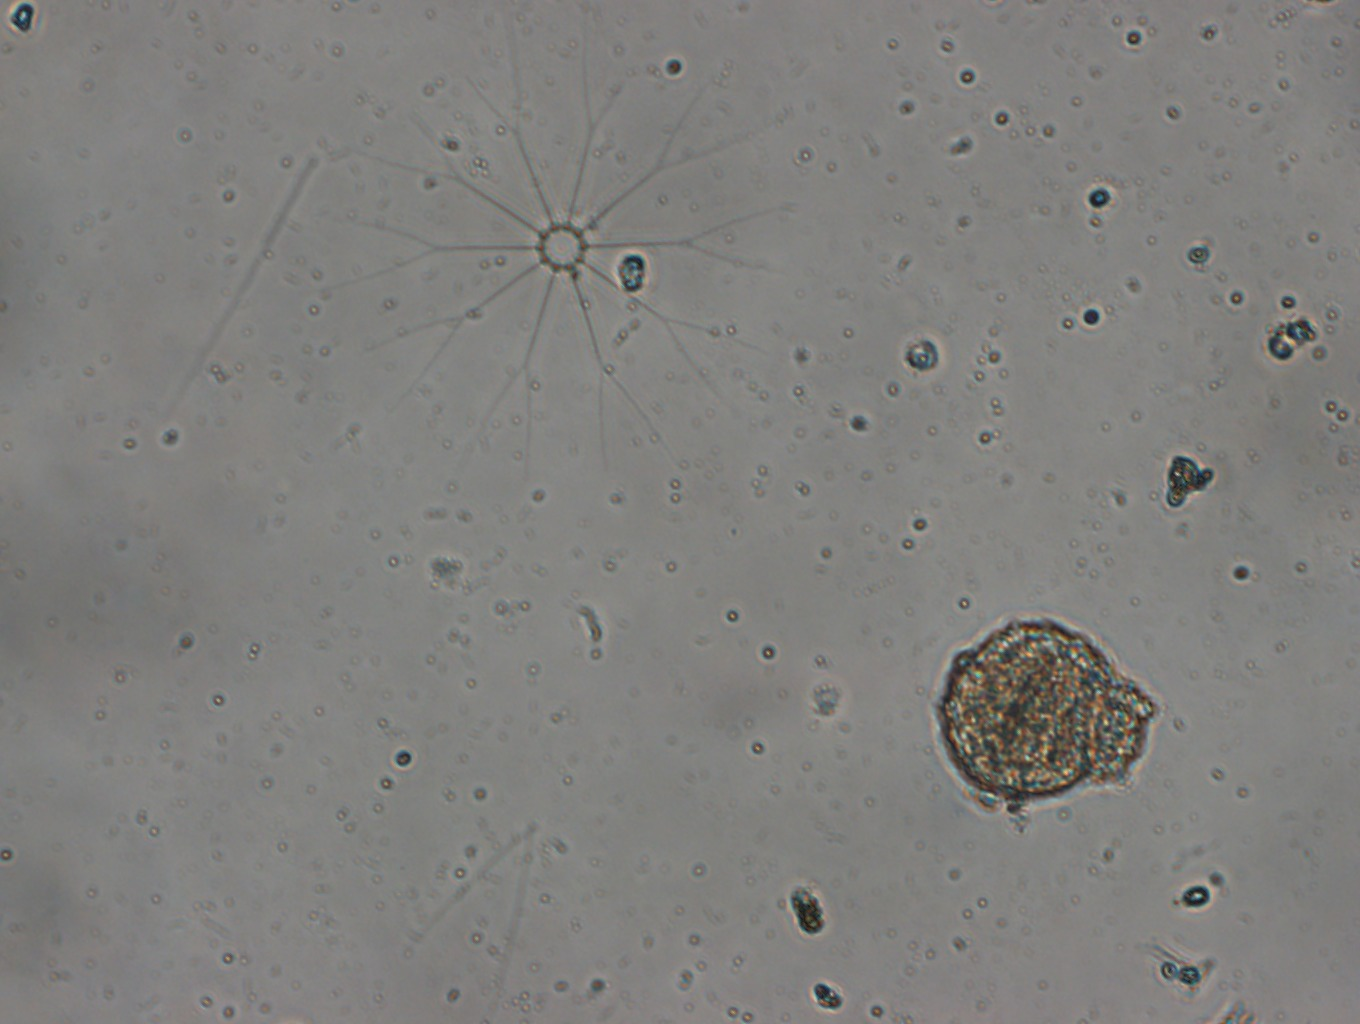bacteriastrum: (340, 39, 810, 478)
